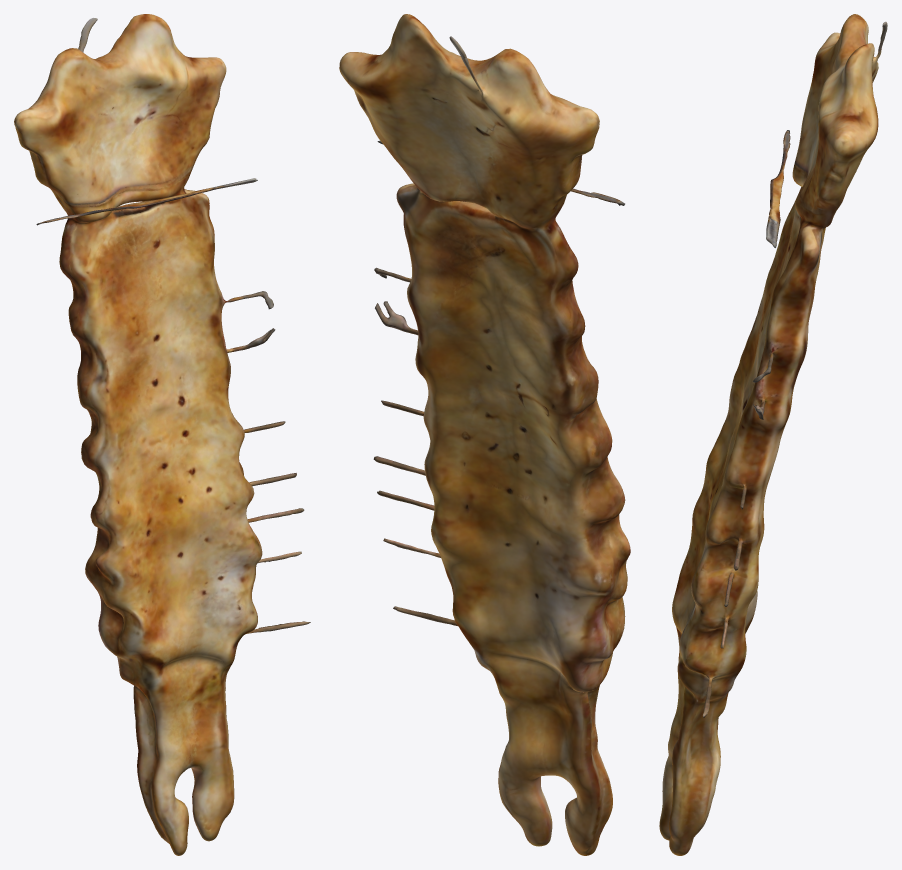
The model's file is human_sternum.glb.
3 renders of one model, left to right at view 1: azimuth 30°, elevation 25°; view 2: azimuth 150°, elevation 25°; view 3: azimuth 270°, elevation 25°, orthographic. The views are drawn at different scales.
Visible parts, largest first — view 1: Object_4; view 2: Object_4; view 3: Object_4.
Boxes of the visible parts, box(x1,y1,x2,y2) form: Object_4: box(14, 14, 310, 855); Object_4: box(339, 14, 630, 855); Object_4: box(659, 14, 887, 855).
Bounding box in the file's own units: 0.6553 × 2 × 0.5003.
1 material, 1 textured.
